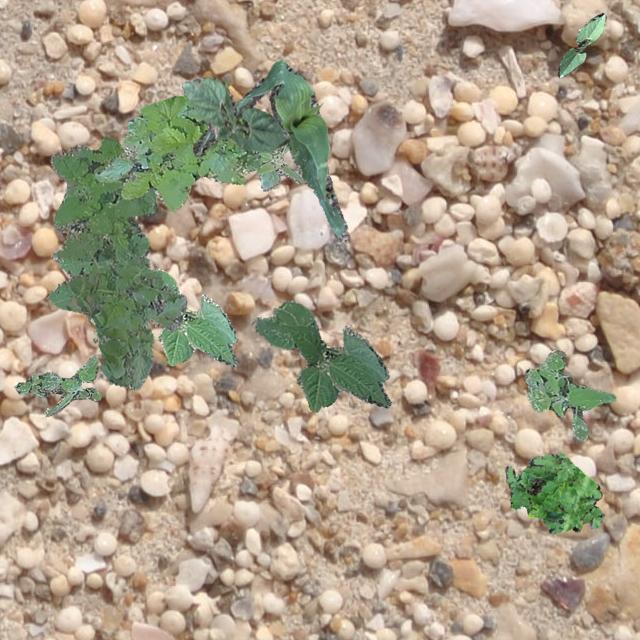crop: (192, 58, 348, 240), (252, 300, 389, 410), (150, 268, 236, 366), (180, 76, 288, 150), (556, 12, 604, 76)
weed: (46, 136, 186, 388), (94, 92, 262, 210), (522, 348, 614, 440), (504, 452, 604, 532), (14, 354, 100, 416), (256, 142, 302, 190)
